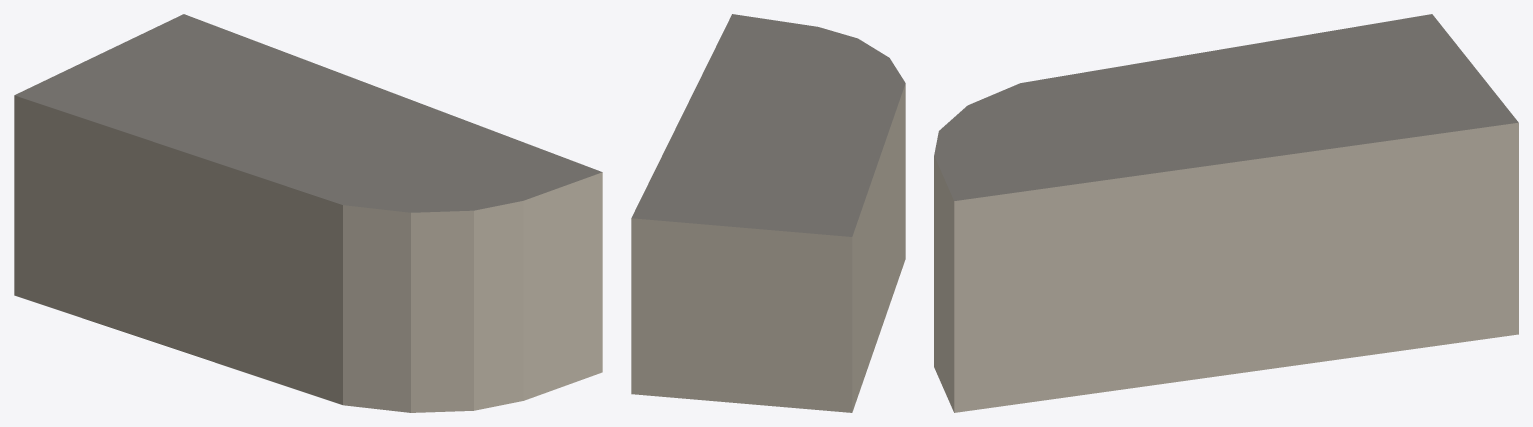
3 renders of one model, left to right at view 1: azimuth 30°, elevation 25°; view 2: azimuth 150°, elevation 25°; view 3: azimuth 270°, elevation 25°, orthographic. The views are drawn at different scales.
Parts seen in each view (by area): view 1: HP-w414733191; view 2: HP-w414733191; view 3: HP-w414733191.
Boxes of the visible parts, x1=… form: HP-w414733191: x1=14, y1=14, x2=602, y2=412; HP-w414733191: x1=631, y1=14, x2=905, y2=412; HP-w414733191: x1=934, y1=14, x2=1518, y2=412.
Size of the model in its own units: 22.74 by 12 by 30.02.
